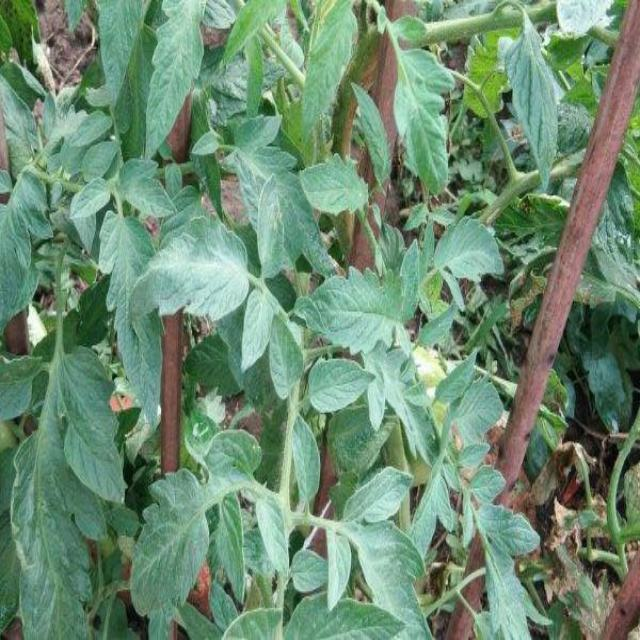Late_blight: (521, 430, 640, 640), (504, 264, 549, 333)
